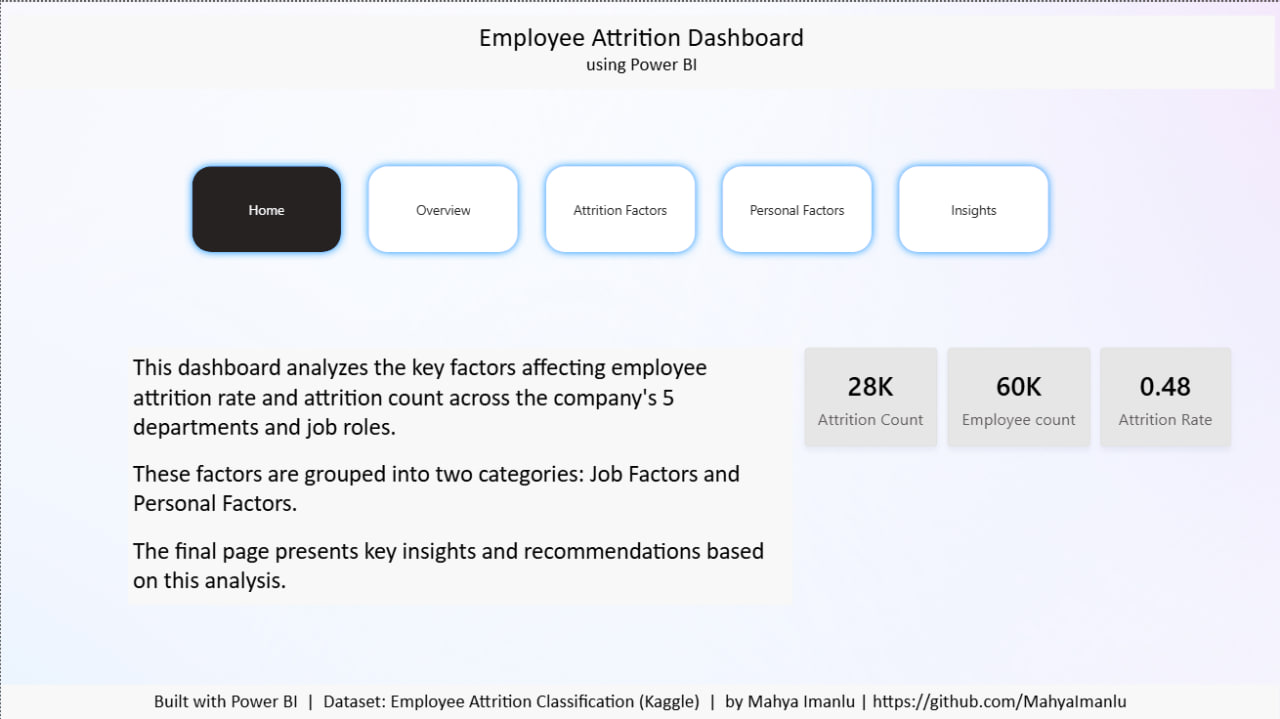

The dashboard page shown, as its layout file describes it:
{"tool":"powerbi","page":{"name":"Home","canvas":[1280,720],"ordinal":0},"visuals":[{"type":"pageNavigator","box":[183.8,156.6,875.1,102.4],"z":0},{"type":"textbox","box":[7.5,13.6,1268.3,73.8],"z":1000},{"type":"card","fields":{"Values":["hr_analytics employee_attrition.Attrition Rate"]},"box":[1101.1,346.4,131,99.4],"z":2000},{"type":"card","fields":{"Values":["hr_analytics employee_attrition.Attrotion Count"]},"box":[804.3,346.4,132.5,99.4],"z":3000},{"type":"card","fields":{"Values":["hr_analytics employee_attrition.Employee count"]},"box":[947.4,346.4,143.1,99.4],"z":4000},{"type":"textbox","box":[127.6,345.8,665.5,258],"z":5000},{"type":"textbox","box":[0,683.8,1280.3,36.1],"z":6000}]}

Visuals, with their boxes in screenshot pixels (x1, y1, x2, y2), scaled from the page's 1280x720 canvas onto the 1280x719 screenshot:
pageNavigator: BBox(184, 156, 1059, 259)
textbox: BBox(8, 14, 1276, 87)
card - hr_analytics employee_attrition.Attrition Rate: BBox(1101, 346, 1232, 445)
card - hr_analytics employee_attrition.Attrotion Count: BBox(804, 346, 937, 445)
card - hr_analytics employee_attrition.Employee count: BBox(947, 346, 1090, 445)
textbox: BBox(128, 345, 793, 603)
textbox: BBox(0, 683, 1279, 718)
